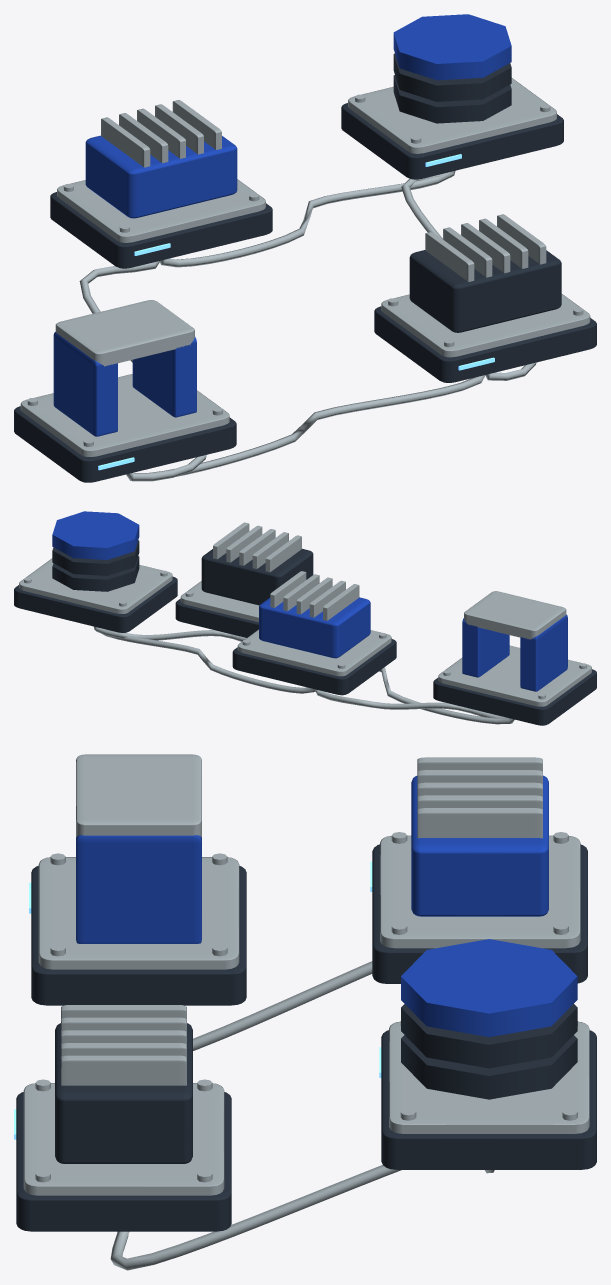
Rendered from architecture.glb.
3 views of the same model, one above another, from view 1: azimuth 30°, elevation 25°; view 2: azimuth 150°, elevation 25°; view 3: azimuth 270°, elevation 25° (orthographic). The views are drawn at different scales.
Visible parts, largest first — view 1: Modular system; view 2: Modular system; view 3: Modular system.
Boxes of the visible parts, x1=… form: Modular system: x1=14, y1=14, x2=596, y2=482; Modular system: x1=14, y1=511, x2=596, y2=725; Modular system: x1=14, y1=754, x2=596, y2=1270.
Size of the model in its own units: 3.37 by 1.35 by 1.95.
